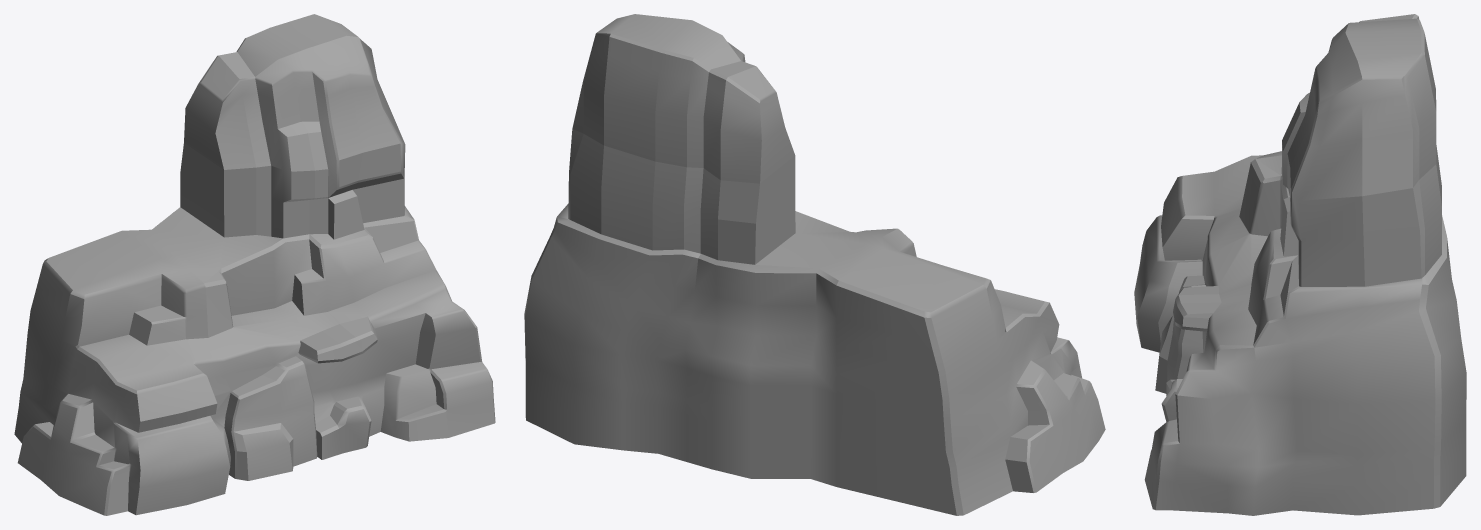
Rendered from stone.fbx.
The picture shows the model from 3 angles, left to right: view 1: azimuth 30°, elevation 25°; view 2: azimuth 150°, elevation 25°; view 3: azimuth 270°, elevation 25°; orthographic projection. The views are drawn at different scales.
Visible parts, largest first — view 1: Cliff; view 2: Cliff; view 3: Cliff.
Boxes of the visible parts, bbox=[...] form: Cliff: bbox=[14, 14, 495, 515]; Cliff: bbox=[524, 14, 1105, 515]; Cliff: bbox=[1134, 14, 1466, 515].
Bounding box in the file's own units: 8523 × 6794 × 4925.
